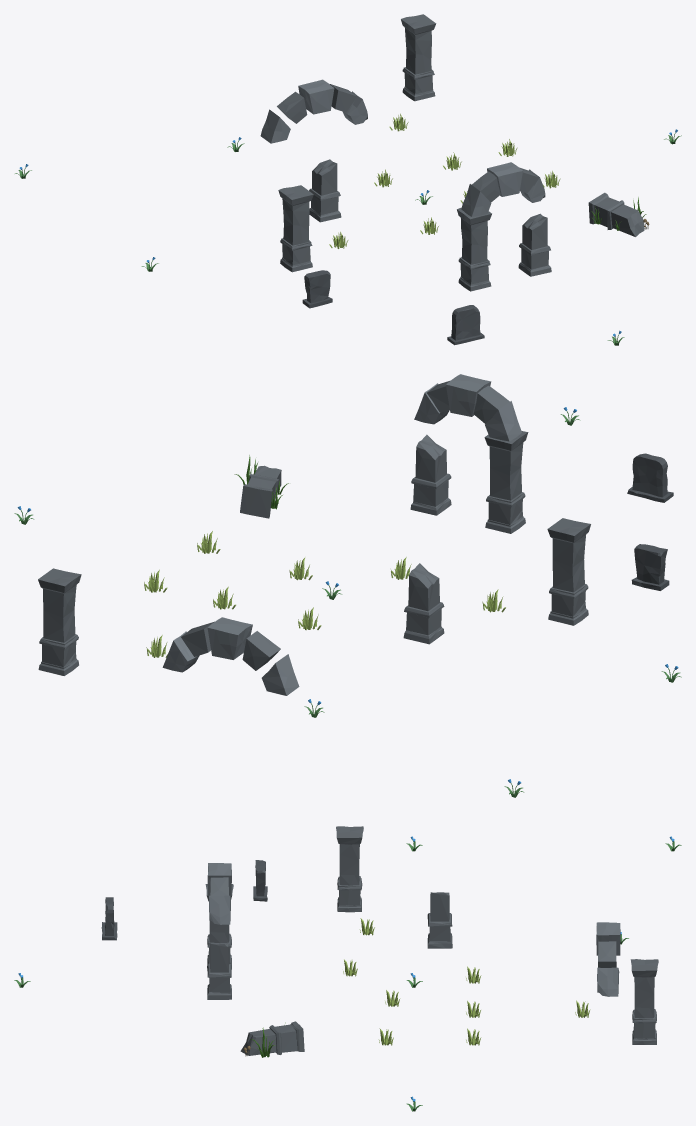
Rendered from ruins.glb.
3 renders of one model, top to bottom at view 1: azimuth 30°, elevation 25°; view 2: azimuth 150°, elevation 25°; view 3: azimuth 270°, elevation 25°, orthographic. The views are drawn at different scales.
Visible parts, largest first — view 1: Ruins1, Ruins2, Ruins2.001, Ruins3.001, Ruins3, Gravestone1, Ruins6, Gravestone2, Ruins4, Ruins5; view 2: Ruins1, Ruins2, Ruins2.001, Ruins3, Ruins3.001, Gravestone1, Ruins6, Gravestone2, Ruins4, Ruins5, Ruins8, Ruins7; view 3: Ruins1, Ruins2, Ruins2.001, Ruins3.001, Ruins3, Ruins8, Ruins6, Gravestone1, Ruins7, Gravestone2.
Boxes of the visible parts, x1,y1,x2,y2 form: Ruins1: (457,162,551,291); Ruins2: (278,185,313,272); Ruins2.001: (401,14,436,101); Ruins3.001: (588,192,649,236); Ruins3: (309,159,341,222); Gravestone1: (447,305,484,345); Ruins6: (298,79,334,114); Gravestone2: (302,270,332,308); Ruins4: (260,109,290,143); Ruins5: (277,91,307,123); Ruins1: (410,374,528,533); Ruins2: (547,518,590,625); Ruins2.001: (38,568,81,675); Ruins3: (403,563,444,644); Ruins3.001: (234,455,288,518); Gravestone1: (627,453,673,502); Ruins6: (207,617,252,659); Gravestone2: (631,544,669,590); Ruins4: (261,654,299,695); Ruins5: (242,631,280,670); Ruins8: (162,631,199,672); Ruins7: (181,621,214,656); Ruins1: (205,863,233,999); Ruins2: (336,826,363,912); Ruins2.001: (630,959,658,1044); Ruins3.001: (240,1021,304,1057); Ruins3: (427,892,452,948); Ruins8: (597,967,619,996); Ruins6: (596,922,620,955); Gravestone1: (101,897,117,940); Ruins7: (598,941,616,967); Gravestone2: (253,860,267,901).
Bounding box in the file's own units: 37.74 × 7.5 × 39.64.
